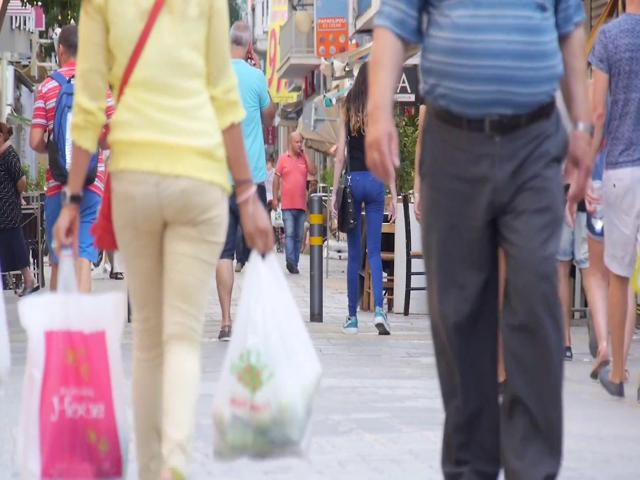shoe: (600, 369, 625, 400), (373, 311, 391, 336), (341, 317, 357, 334)
